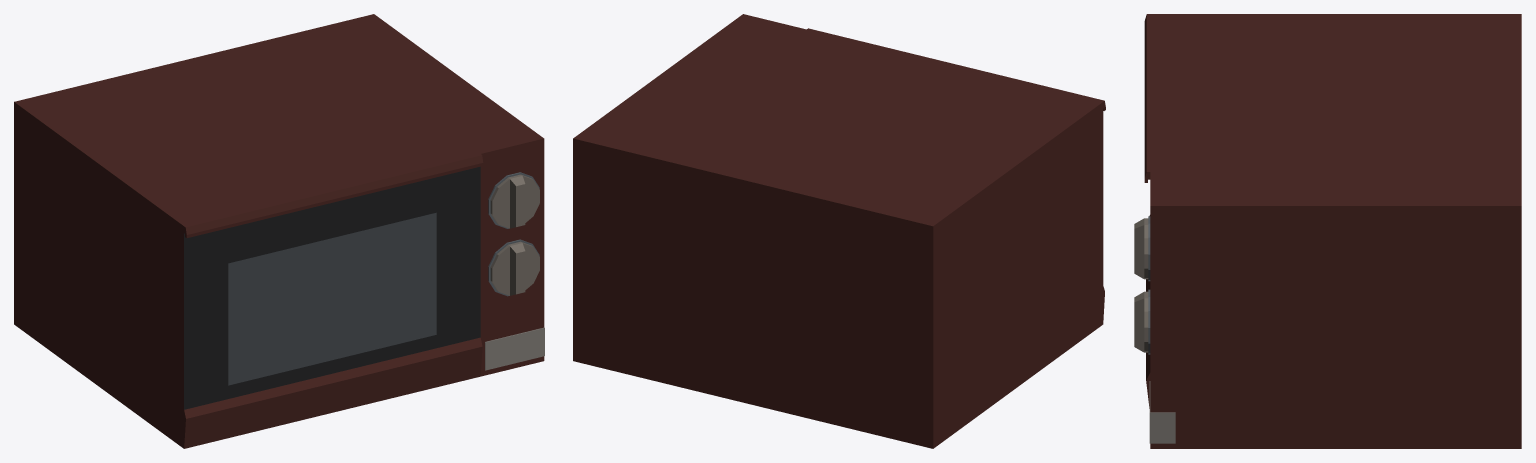
File: microwave_01_C.gltf
The picture shows the model from 3 angles, left to right: view 1: azimuth 30°, elevation 25°; view 2: azimuth 150°, elevation 25°; view 3: azimuth 270°, elevation 25°; orthographic projection. The views are drawn at different scales.
Visible parts, largest first — view 1: microwave_01_C, DoorFORmicrowave_01_C, Switchformicrowave_02_C, buttonformicrowave_01_C; view 2: microwave_01_C, DoorFORmicrowave_01_C; view 3: microwave_01_C, DoorFORmicrowave_01_C, buttonformicrowave_01_C, Switchformicrowave_02_C.
Boxes of the visible parts, box(x1,y1,x2,y2) form: microwave_01_C: box(14, 14, 544, 435); DoorFORmicrowave_01_C: box(166, 141, 483, 448); Switchformicrowave_02_C: box(490, 241, 539, 295); buttonformicrowave_01_C: box(485, 327, 544, 370); microwave_01_C: box(573, 14, 1085, 448); DoorFORmicrowave_01_C: box(789, 28, 1105, 337); microwave_01_C: box(1134, 14, 1521, 448); DoorFORmicrowave_01_C: box(1144, 14, 1188, 408); buttonformicrowave_01_C: box(1149, 381, 1175, 443); Switchformicrowave_02_C: box(1134, 291, 1148, 352).
Bounding box in the file's own units: 0.4405 × 0.26 × 0.3754.
Materials: 1 (1 with a texture image).
